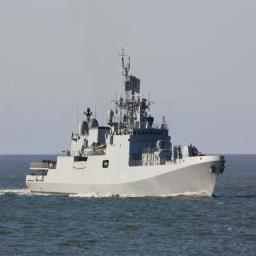Fragata: (25, 53, 228, 201)
